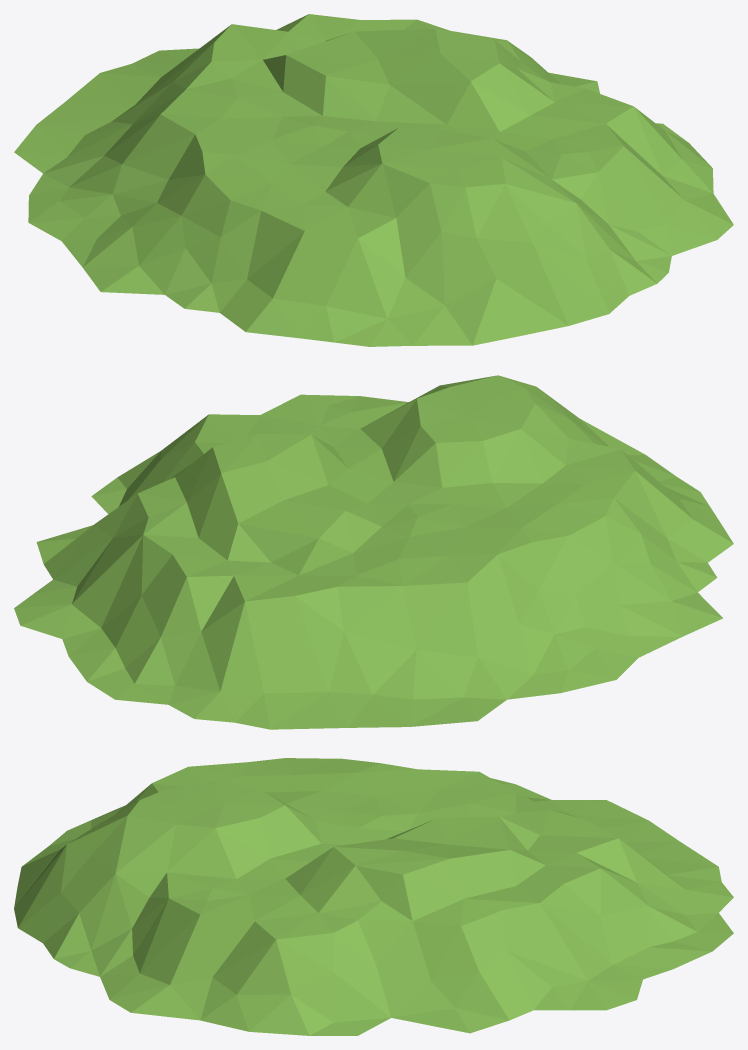
File: MT_Mountain_M_b_10.fbx
3 views of the same model, one above another, from view 1: azimuth 30°, elevation 25°; view 2: azimuth 150°, elevation 25°; view 3: azimuth 270°, elevation 25° (orthographic). The views are drawn at different scales.
Visible parts, largest first — view 1: MT_Mountain_M_b_10; view 2: MT_Mountain_M_b_10; view 3: MT_Mountain_M_b_10.
Part boxes in pixels (box(x1,y1,x2,y2)): MT_Mountain_M_b_10: box(14, 14, 733, 346); MT_Mountain_M_b_10: box(14, 375, 733, 729); MT_Mountain_M_b_10: box(14, 758, 733, 1035).
Bounding box in the file's own units: 4141 × 682 × 4638.
